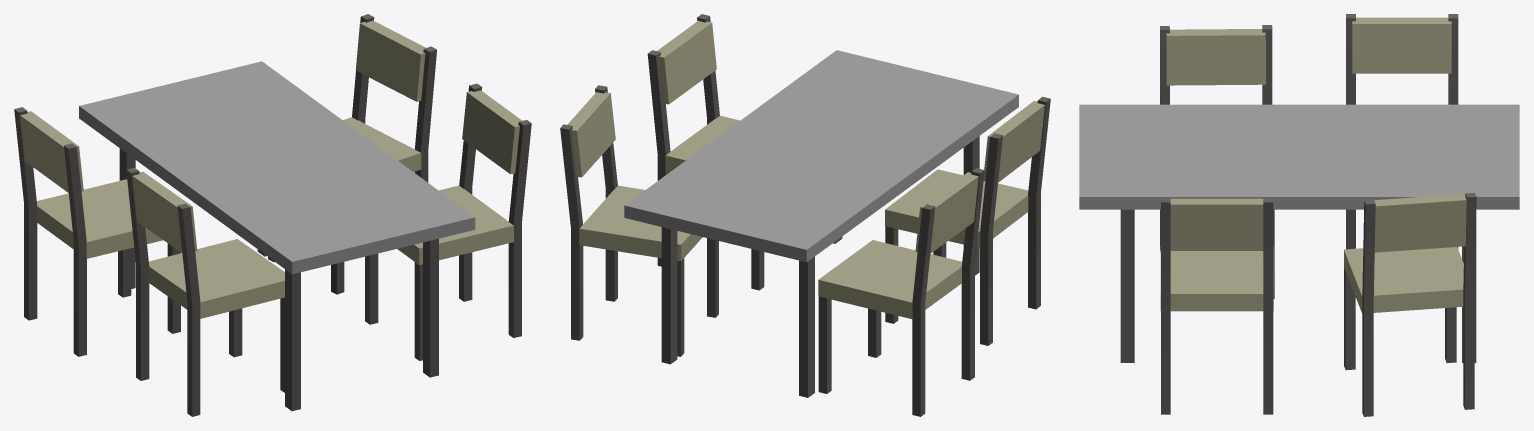
File: SO_TablePreset_01.fbx
3 renders of one model, left to right at view 1: azimuth 30°, elevation 25°; view 2: azimuth 150°, elevation 25°; view 3: azimuth 270°, elevation 25°, orthographic. The views are drawn at different scales.
Visible parts, largest first — view 1: SO_TablePreset_01; view 2: SO_TablePreset_01; view 3: SO_TablePreset_01.
Part boxes in pixels (x1,y1,x2,y2): SO_TablePreset_01: (14, 14, 531, 416); SO_TablePreset_01: (560, 14, 1050, 416); SO_TablePreset_01: (1079, 14, 1519, 416).
Bounding box in the file's own units: 3.7 × 1.97 × 3.61.
